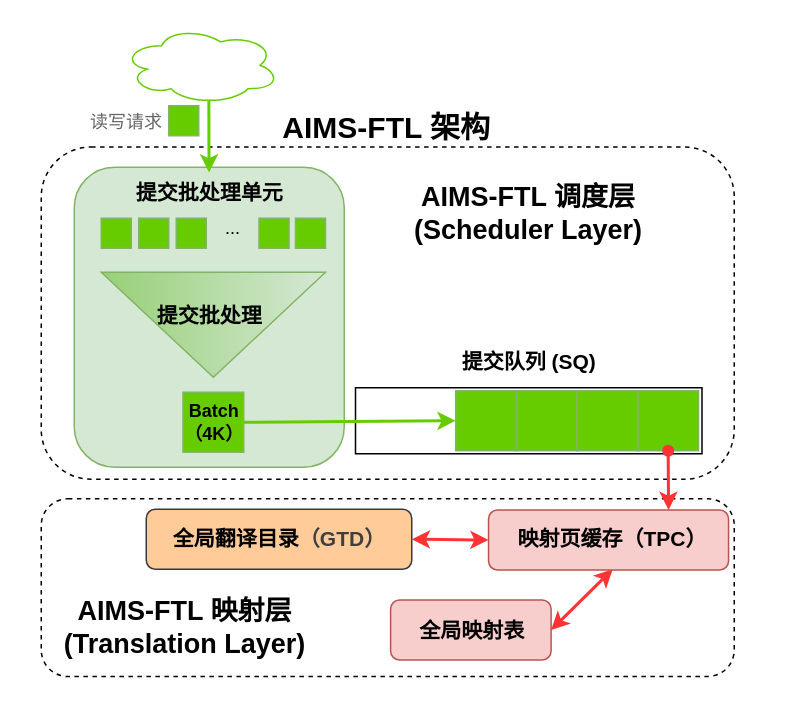
The diagram is 795 pixels wide and 704 high, and some of its shapes have lost their labels. Here are the shapes that lost their labels. From the top down, the box of each, then its label:
(121, 25, 280, 104): 请求流
(454, 389, 516, 451): Tail Batch
(636, 389, 699, 451): Head Batch
